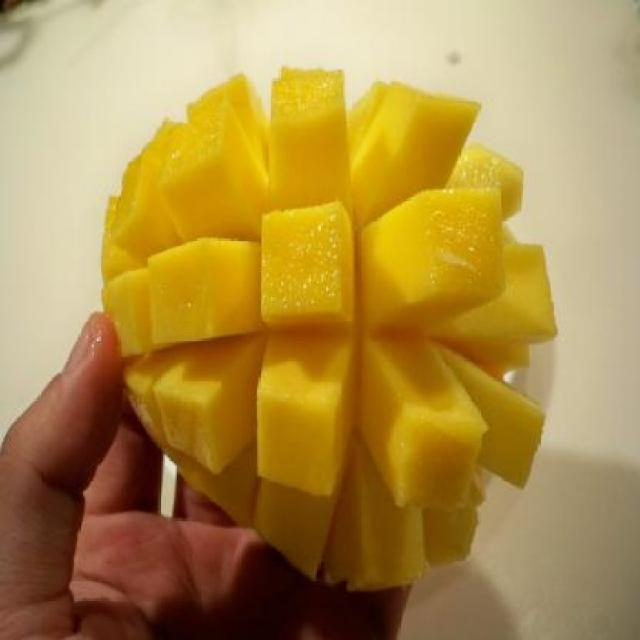Mango: (99, 68, 558, 590), (366, 174, 520, 320)
